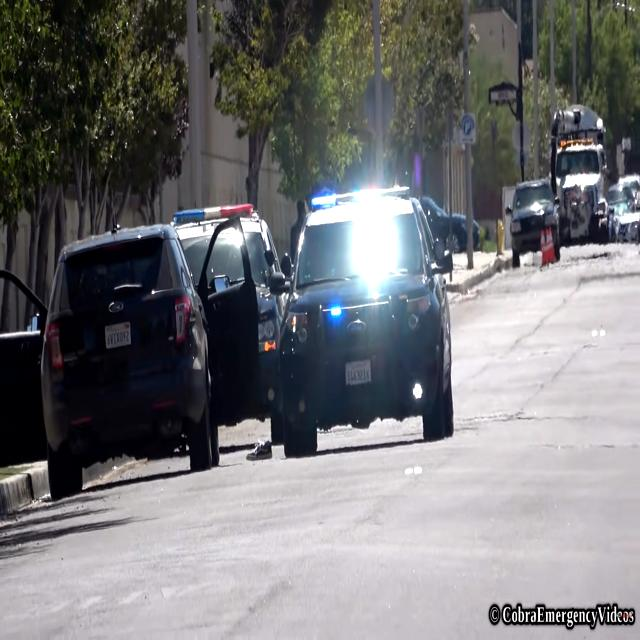emergency-vehicles: (275, 175, 467, 472), (123, 181, 289, 338)
